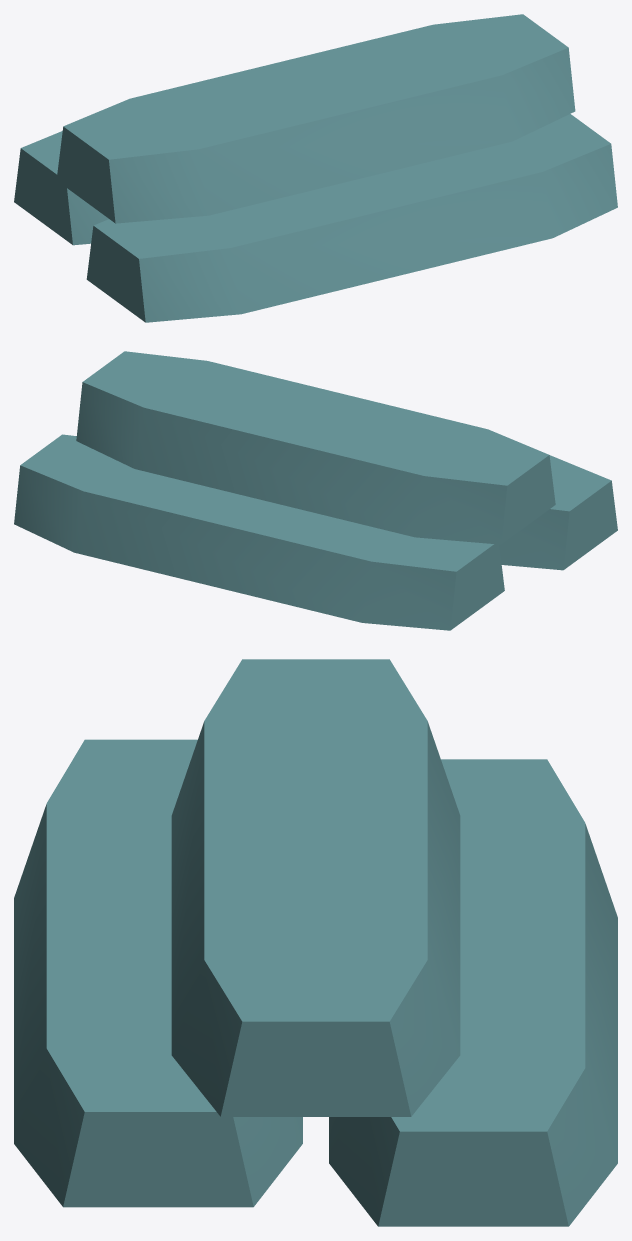
File: item_rm_plasteel_c.obj
The picture shows the model from 3 angles, top to bottom: view 1: azimuth 30°, elevation 25°; view 2: azimuth 150°, elevation 25°; view 3: azimuth 270°, elevation 25°; orthographic projection. The views are drawn at different scales.
Parts seen in each view (by area): view 1: soft_slab_24, soft_slab_0, soft_slab_12; view 2: soft_slab_24, soft_slab_12, soft_slab_0; view 3: soft_slab_24, soft_slab_12, soft_slab_0.
Part boxes in pixels (x1,y1,x2,y2): soft_slab_24: (56,14,575,223); soft_slab_0: (86,114,617,322); soft_slab_12: (14,131,108,245); soft_slab_24: (76,351,555,544); soft_slab_12: (14,434,504,630); soft_slab_0: (499,455,617,570); soft_slab_24: (171,659,460,1116); soft_slab_12: (329,759,617,1226); soft_slab_0: (14,739,302,1207).
Bounding box in the file's own units: 0.904 × 0.2048 × 0.5888.
